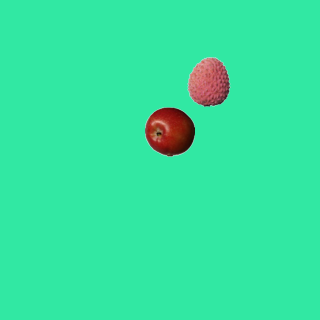Apple Braeburn: (144, 106, 194, 156)
Lychee: (183, 56, 233, 106)
